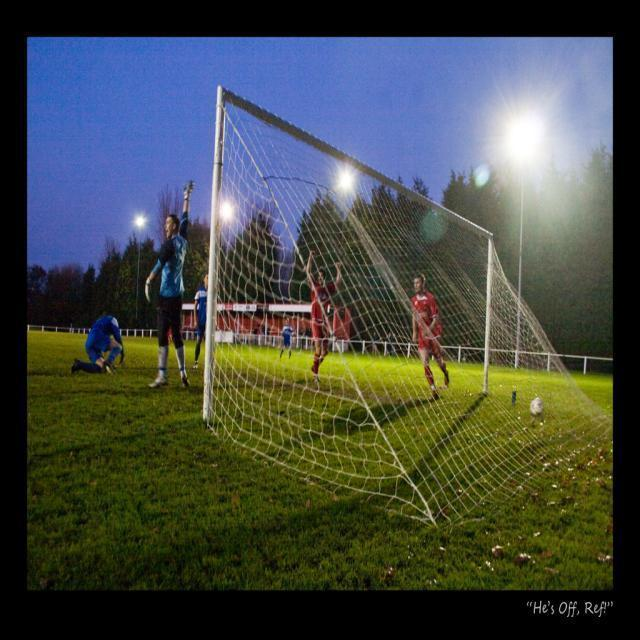ball: (530, 398, 543, 418)
